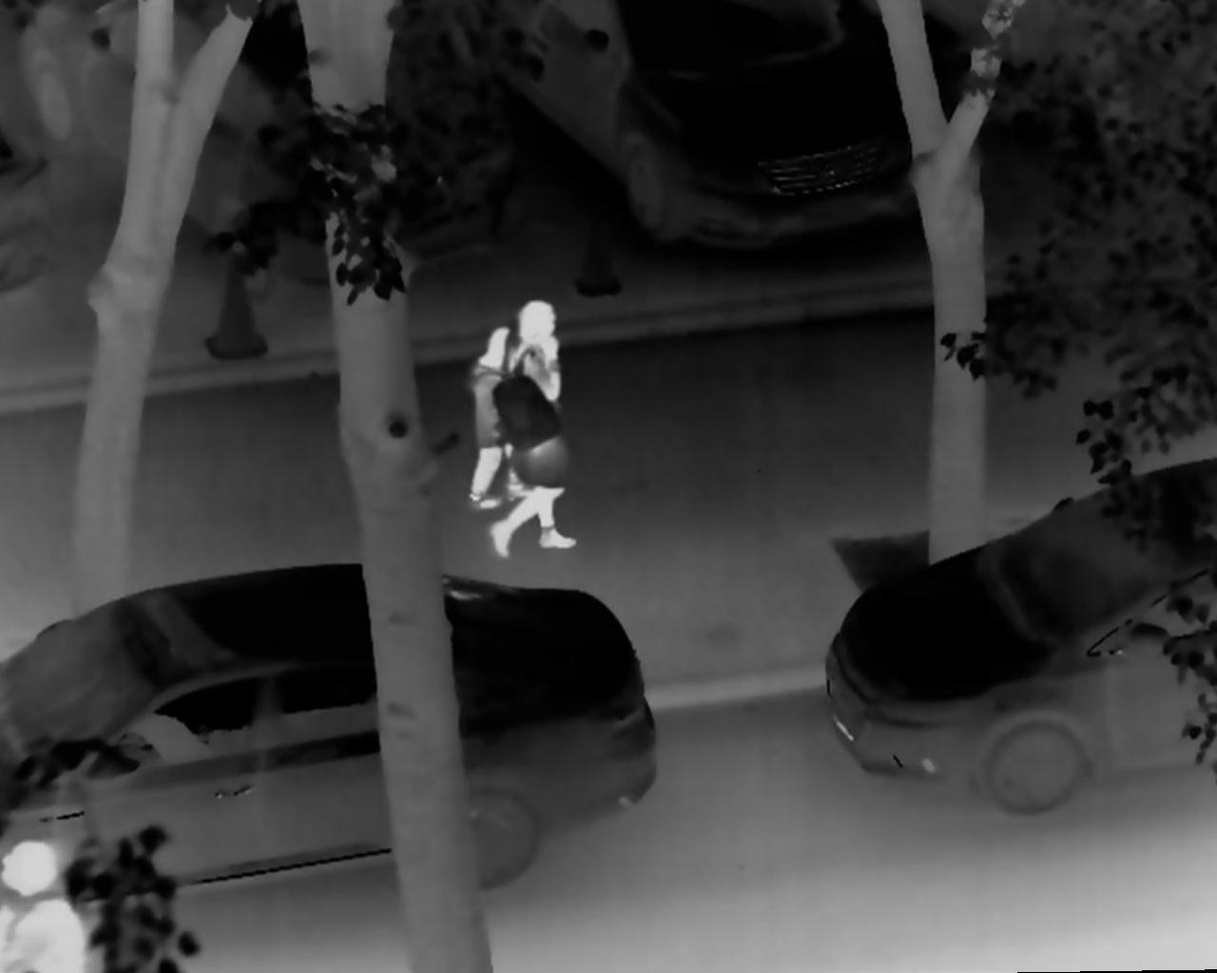person: (489, 298, 581, 558), (467, 318, 535, 511)
